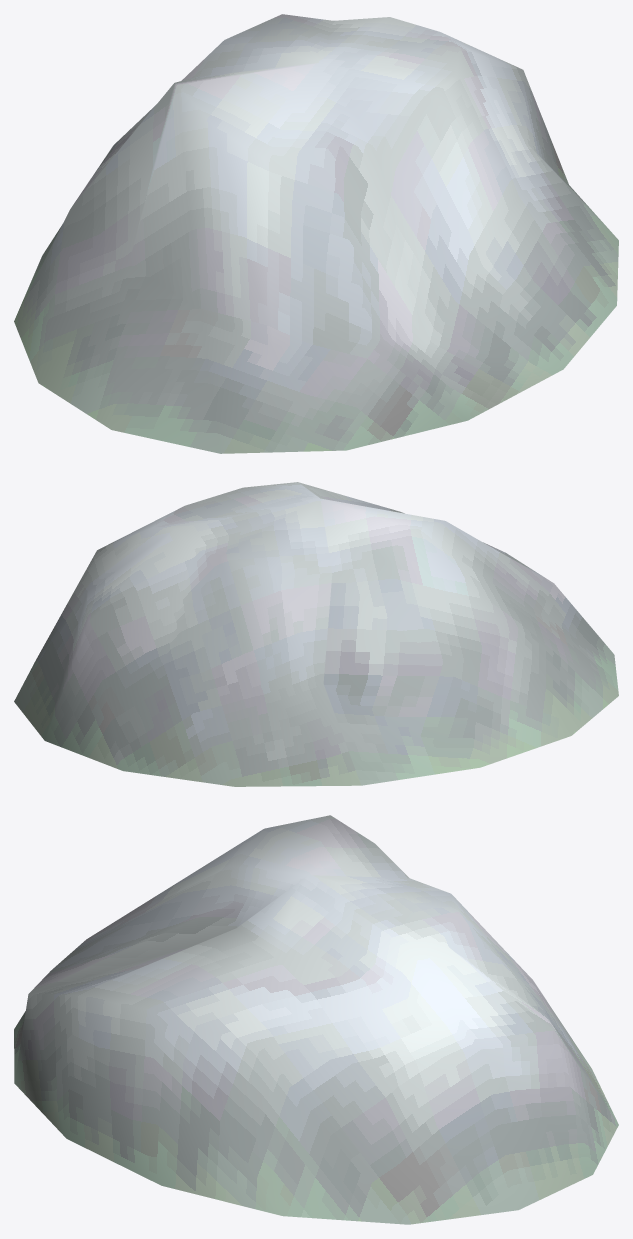
Rendered from TROLLHOLE02_STONEA18.fbx.
3 renders of one model, top to bottom at view 1: azimuth 30°, elevation 25°; view 2: azimuth 150°, elevation 25°; view 3: azimuth 270°, elevation 25°, orthographic. The views are drawn at different scales.
Parts seen in each view (by area): view 1: TROLLHOLE02_STONEA18; view 2: TROLLHOLE02_STONEA18; view 3: TROLLHOLE02_STONEA18.
Boxes of the visible parts, x1,y1,x2,y2 form: TROLLHOLE02_STONEA18: (14, 14, 618, 453); TROLLHOLE02_STONEA18: (14, 482, 618, 786); TROLLHOLE02_STONEA18: (14, 815, 618, 1224).
Size of the model in its own units: 15980 by 6023 by 15275.
Materials: 1 (1 with a texture image).
